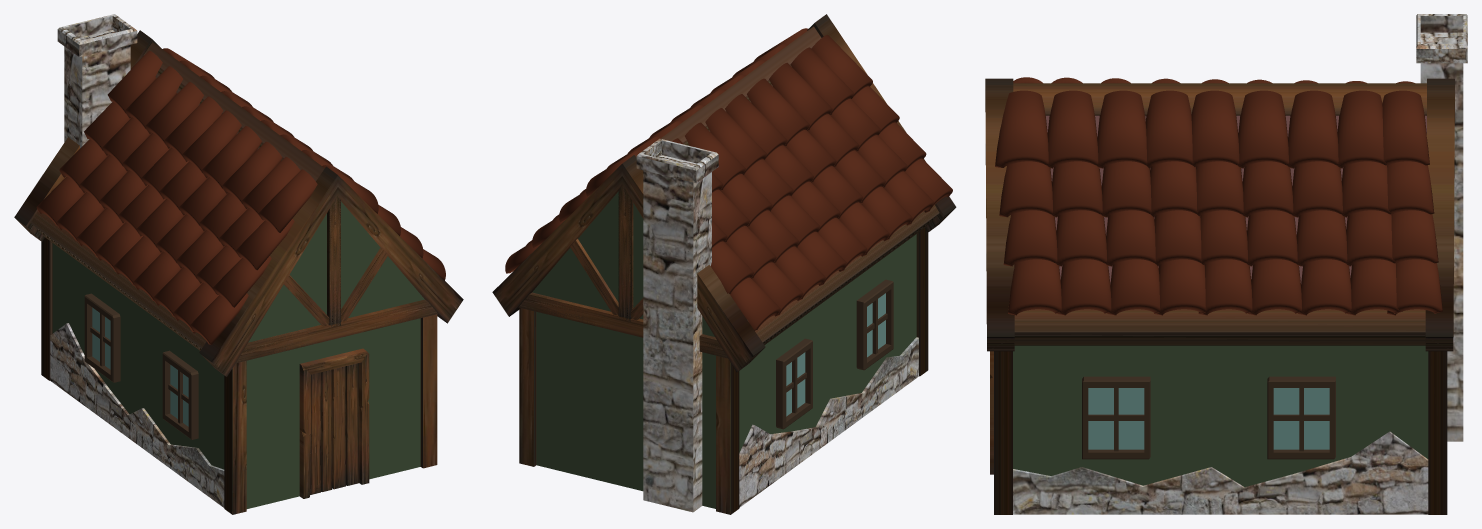
Rendered from SM_House_004.fbx.
3 views of the same model, side by side, from view 1: azimuth 30°, elevation 25°; view 2: azimuth 150°, elevation 25°; view 3: azimuth 270°, elevation 25° (orthographic). The views are drawn at different scales.
Parts seen in each view (by area): view 1: Plane.005; view 2: Plane.005; view 3: Plane.005.
Boxes of the visible parts, left/top/right/bottom form: Plane.005: left=14, top=14, right=463, bottom=514; Plane.005: left=492, top=14, right=956, bottom=514; Plane.005: left=985, top=14, right=1467, bottom=514.
Size of the model in its own units: 466 by 587 by 644.
